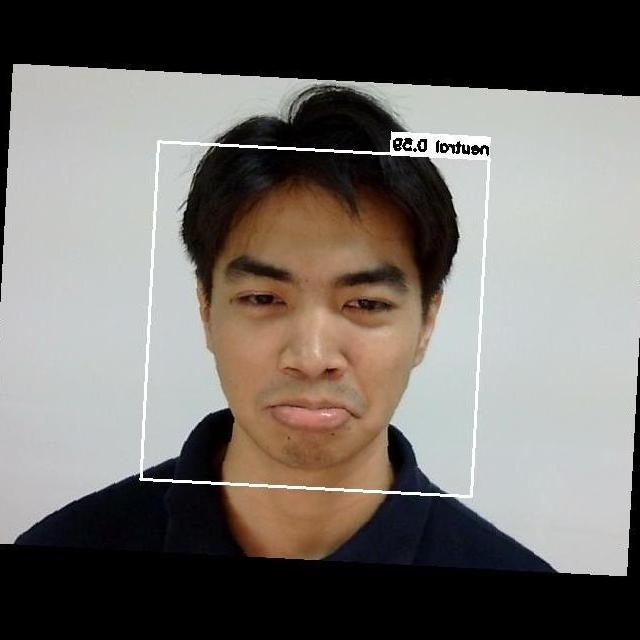Sad: (202, 232, 433, 479)
